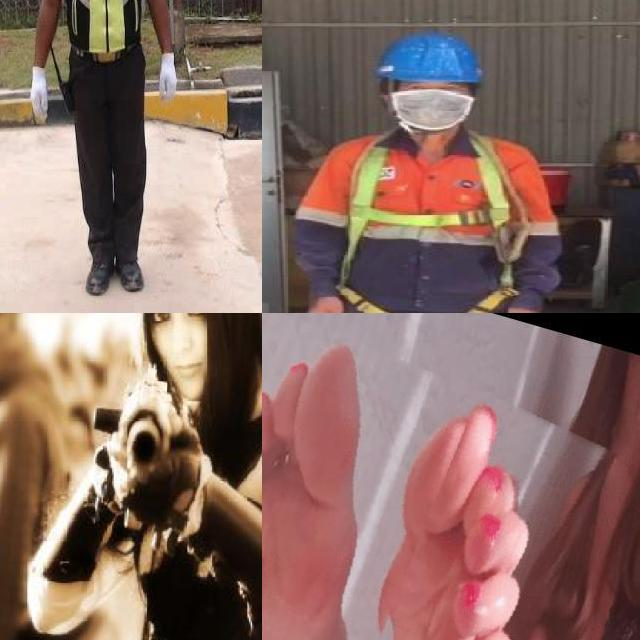Barefoots: (369, 414, 541, 640), (262, 333, 372, 640)
boots: (116, 249, 148, 300), (84, 255, 117, 300)
face_mask: (390, 80, 472, 136)
face_nomask: (146, 313, 225, 383)
hand_noglove: (299, 290, 350, 313), (499, 296, 546, 313)
head_helmet: (372, 31, 492, 88)
person: (280, 25, 576, 313), (59, 313, 262, 640), (1, 0, 209, 307), (0, 313, 62, 640)
vest: (62, 0, 152, 57)
